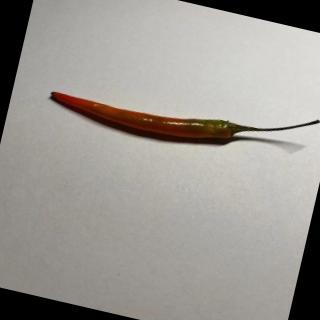Cabai Merah: (44, 58, 320, 171)
